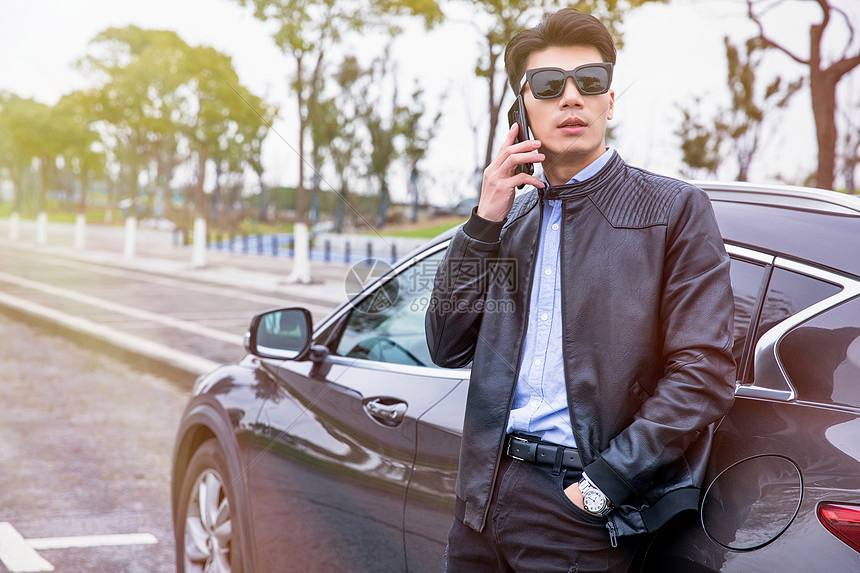calling: (478, 92, 548, 217)
